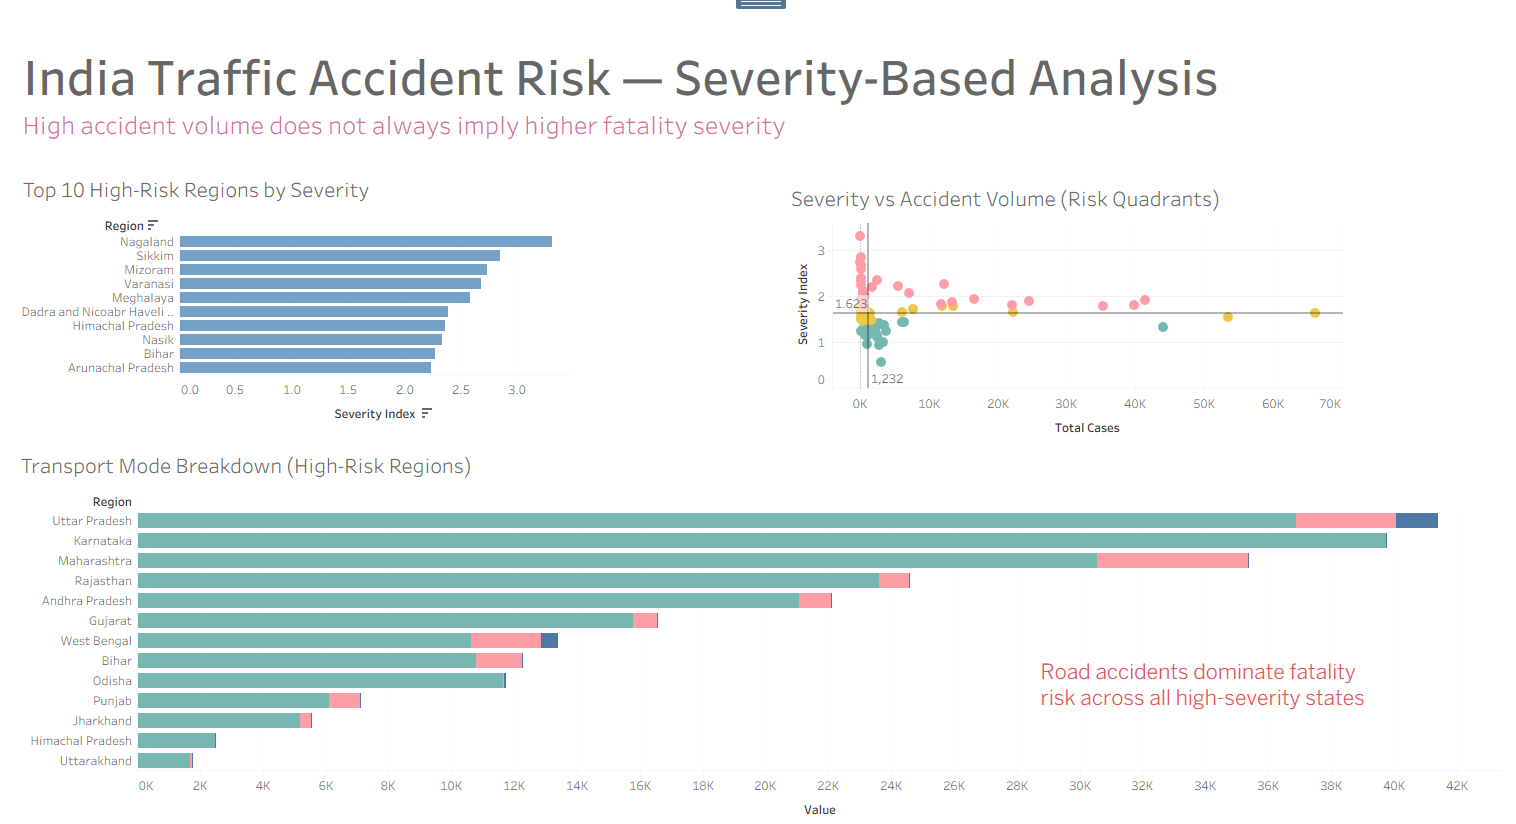

The page's visual inventory and layout, read from the dashboard file:
{"tool":"tableau","page":{"name":"Dashboard 1","canvas":[1000,1000],"units":"permille","ordinal":0},"visuals":[{"type":"legend","title":"Severity vs Accident Volume (Risk Quadrants)","param":"[federated.1cthtw11s9vrd914num0y03s50fl].[none:risk_category:nk]","box":[901.7,9.3,93.6,100.5]},{"type":"text","box":[19.3,38.6,812.2,162.4]},{"type":"legend","title":"Transport Mode Breakdown (High-Risk Regions)","param":"[federated.1cthtw11s9vrd914num0y03s50fl].[:Measure Names]","box":[901.7,109.8,93.6,100.5]},{"type":"worksheet","title":"Top 10 High-Risk Regions by Severity","mark":"Automatic","rows":["region"],"cols":["severity_index"],"box":[18.7,211.5,323,301.4]},{"type":"worksheet","title":"Severity vs Accident Volume (Risk Quadrants)","mark":"Circle","rows":["severity_index"],"cols":["total_cases"],"box":[468.1,222,325.3,307.2]},{"type":"worksheet","title":"Transport Mode Breakdown (High-Risk Regions)","mark":"Automatic","rows":["region"],"box":[17.6,533.9,869.5,446.3]},{"type":"text","box":[615,766.4,207.7,90]}]}

Visuals, with their boxes on the dashboard's canvas, which has no fixed pixel size, in thousandths of its width and height (x1, y1, x2, y2). These are canvas units, not pixel positions in the 1516x824 screenshot, which may show the page scaled, cropped or inside an application window:
"Severity vs Accident Volume (Risk Quadrants)" legend: bbox=(902, 9, 995, 110)
text: bbox=(19, 39, 832, 201)
"Transport Mode Breakdown (High-Risk Regions)" legend: bbox=(902, 110, 995, 210)
"Top 10 High-Risk Regions by Severity" worksheet: bbox=(19, 212, 342, 513)
"Severity vs Accident Volume (Risk Quadrants)" worksheet (Circle marks): bbox=(468, 222, 793, 529)
"Transport Mode Breakdown (High-Risk Regions)" worksheet: bbox=(18, 534, 887, 980)
text: bbox=(615, 766, 823, 856)
